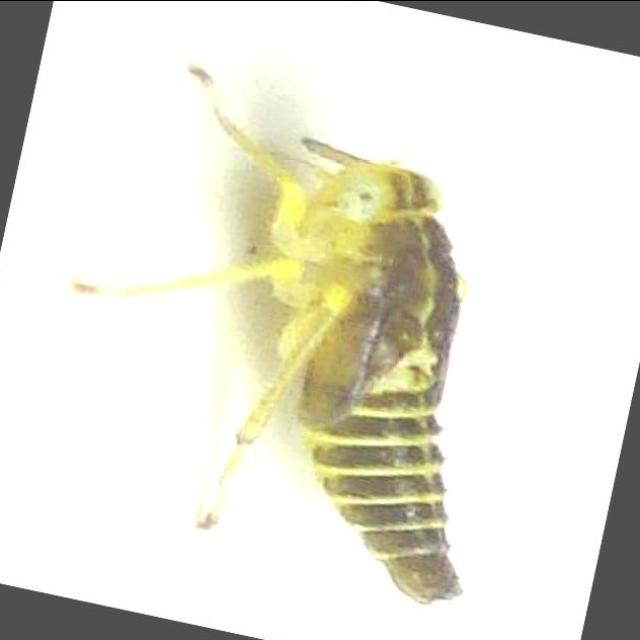green leaf hopper: (77, 68, 463, 603)
